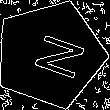N_W: (18, 27, 82, 82)
